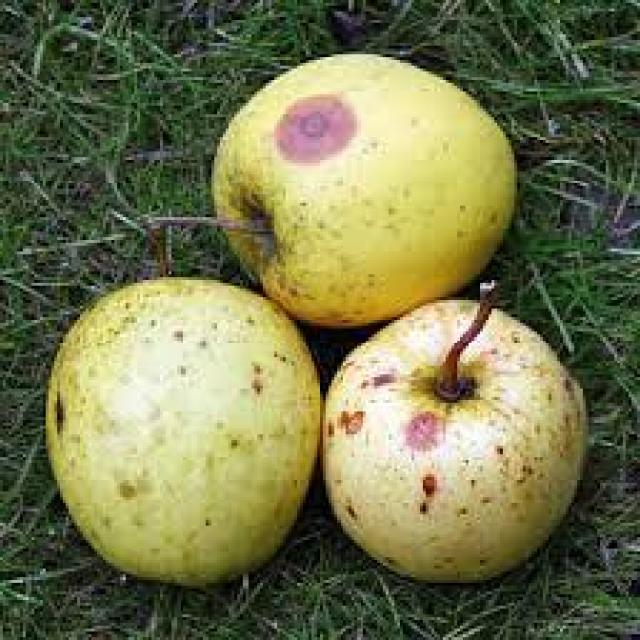organic waste: (135, 52, 514, 328), (43, 223, 320, 580), (317, 274, 589, 583)
